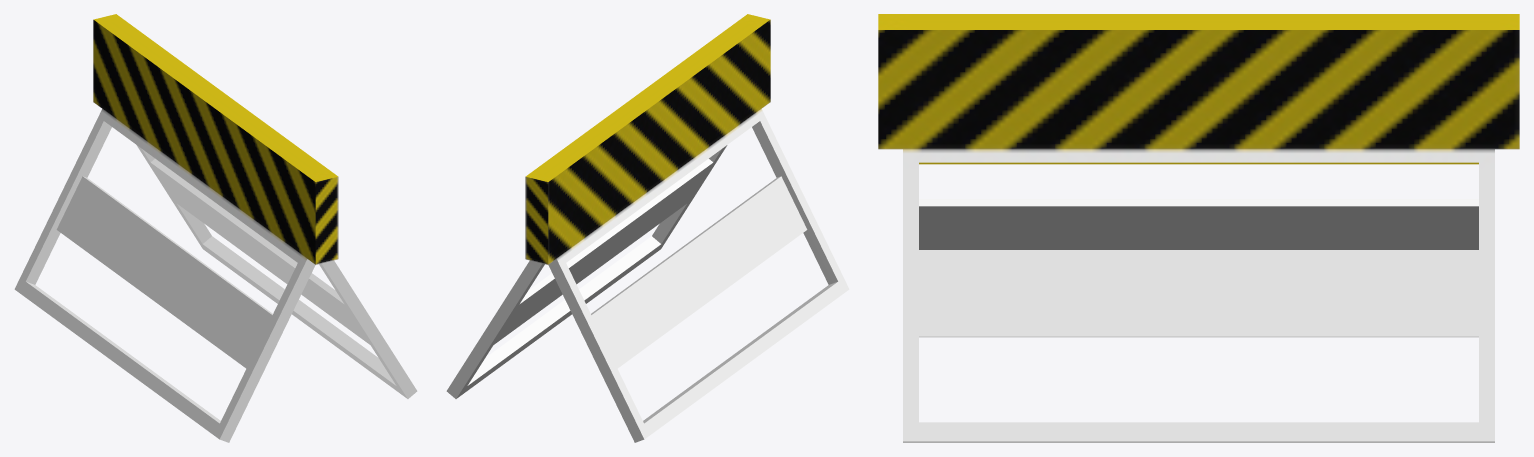
File: Barricade2.fbx
3 renders of one model, left to right at view 1: azimuth 30°, elevation 25°; view 2: azimuth 150°, elevation 25°; view 3: azimuth 270°, elevation 25°, orthographic. The views are drawn at different scales.
Parts seen in each view (by area): view 1: pCube4; view 2: pCube4; view 3: pCube4.
Part boxes in pixels (x1,y1,x2,y2): pCube4: [14, 14, 417, 442]; pCube4: [446, 14, 849, 442]; pCube4: [878, 14, 1519, 442].
Bounding box in the file's own units: 8.67 × 10.37 × 16.85.
1 material, 1 textured.
